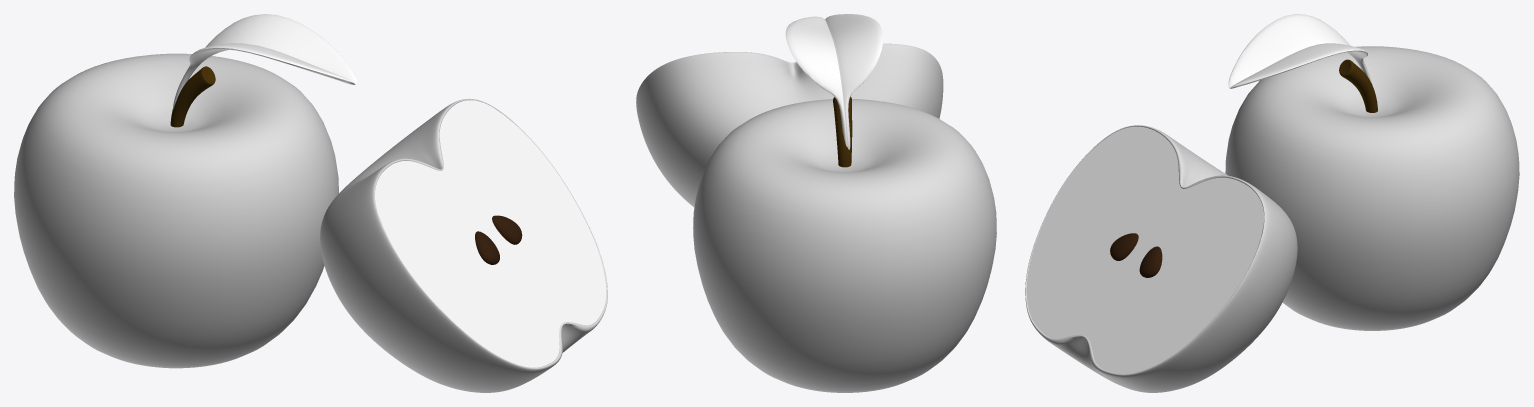
Rendered from Apple.glb.
3 renders of one model, left to right at view 1: azimuth 30°, elevation 25°; view 2: azimuth 150°, elevation 25°; view 3: azimuth 270°, elevation 25°, orthographic. The views are drawn at different scales.
Visible parts, largest first — view 1: Sphere, Sphere.002, Sphere.001, Plane, Cylinder, Cube; view 2: Sphere, Sphere.001, Plane, Cylinder; view 3: Sphere, Sphere.002, Sphere.001, Plane, Cube, Cylinder.
Boxes of the visible parts, <box> form: Sphere: <box>14,53,338,368</box>; Sphere.002: <box>375,100,606,367</box>; Sphere.001: <box>320,98,607,392</box>; Plane: <box>173,14,356,108</box>; Cylinder: <box>170,66,215,127</box>; Cube: <box>475,215,522,264</box>; Sphere: <box>693,99,996,392</box>; Sphere.001: <box>636,43,943,207</box>; Plane: <box>785,14,882,149</box>; Cylinder: <box>833,96,852,167</box>; Sphere: <box>1225,46,1519,330</box>; Sphere.002: <box>1026,126,1264,374</box>; Sphere.001: <box>1025,125,1297,392</box>; Plane: <box>1228,14,1371,88</box>; Cube: <box>1110,233,1162,277</box>; Cylinder: <box>1339,59,1377,112</box>.
Size of the model in its own units: 6.33 by 4.34 by 6.61.
5 materials, 1 textured.
